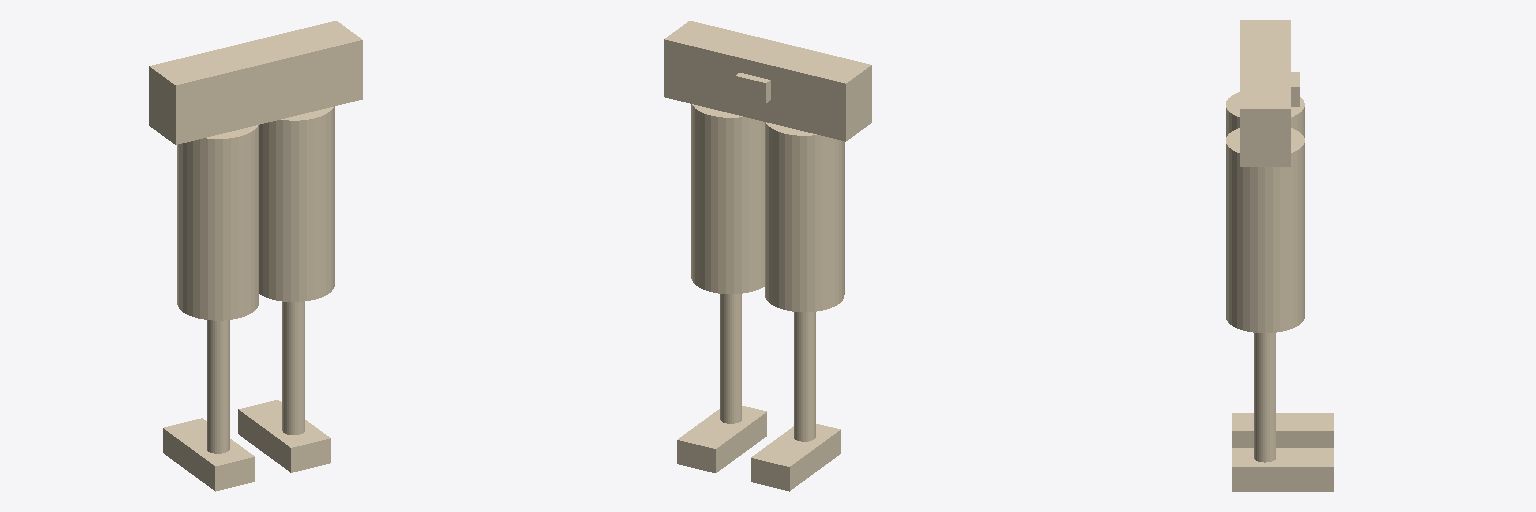
robot.urdf — Human:
<?xml version="1.0"?>
<robot name="Human">

    <material name="bone_white">
        <color rgba="0.9 0.85 0.75 1.0"/>
    </material>

    <!--
         HIP  
    -->
    <link name="base_link">
        <visual name="hip">
            <geometry>
                <box size="0.470 0.115 0.143"/>
            </geometry>
            <origin xyz="0.0 0.0 0.0" rpy="0.0 0.0 0.0"/>
            <material name="bone_white"/>
        </visual>

        <visual name="front_panel">
            <geometry>
                <box size="0.080 0.020 0.050"/>
            </geometry>
            <origin xyz="0.0 0.0675 0.01" rpy="0.0 0.0 0.0"/>
            <material name="bone_white"/>
        </visual>
    </link>

    <!--
         LEFT LEG
    -->
    <link name="left_thigh">
        <visual name="left_thigh_visual">
            <geometry>
                <cylinder radius="0.089" length="0.43533"/>
            </geometry>
            <origin xyz="0.0 0.0 -0.217665" rpy="0.0 0.0 0.0"/>
            <material name="bone_white"/>
        </visual>
    </link>

    <link name="left_hip_int1"/>
    <link name="left_hip_int2"/>

    <joint name="left_hip_flexion" type="revolute">
        <parent link="base_link"/>
        <child  link="left_hip_int1"/>
        <origin xyz="-0.095 0.0 -0.0715" rpy="0.0 0.0 0.0"/>
        <axis xyz="1 0 0"/>
        <limit lower="-0.349" upper="2.094" effort="500" velocity="3.0"/>
    </joint>

    <joint name="left_hip_abduction" type="revolute">
        <parent link="left_hip_int1"/>
        <child  link="left_hip_int2"/>
        <origin xyz="0.0 0.0 0.0" rpy="0.0 0.0 0.0"/>
        <axis xyz="0 1 0"/>
        <limit lower="-0.349" upper="0.785" effort="500" velocity="3.0"/>
    </joint>

    <joint name="left_hip_rotation" type="revolute">
        <parent link="left_hip_int2"/>
        <child  link="left_thigh"/>
        <origin xyz="0.0 0.0 0.0" rpy="0.0 0.0 0.0"/>
        <axis xyz="0 0 1"/>
        <limit lower="-0.785" upper="0.785" effort="500" velocity="3.0"/>
    </joint>

    <link name="left_shin">
        <visual name="left_shin_visual">
            <geometry>
                <cylinder radius="0.025" length="0.34925"/>
            </geometry>
            <origin xyz="0.0 0.0 -0.174625" rpy="0.0 0.0 0.0"/>
            <material name="bone_white"/>
        </visual>
    </link>

    <joint name="left_knee_flexion" type="revolute">
        <parent link="left_thigh"/>
        <child  link="left_shin"/>
        <origin xyz="0.0 0.0 -0.43533" rpy="0.0 0.0 0.0"/>
        <axis xyz="-1 0 0"/>
        <limit lower="-0.087" upper="2.443" effort="500" velocity="3.0"/>
    </joint>

    <link name="left_shoe">
        <visual name="left_shoe_visual">
            <geometry>
                <box size="0.100 0.230 0.060"/>
            </geometry>
            <origin xyz="0.0 0.040 -0.030" rpy="0.0 0.0 0.0"/>
            <material name="bone_white"/>
        </visual>
    </link>

    <joint name="left_shoe_joint" type="fixed">
        <parent link="left_shin"/>
        <child  link="left_shoe"/>
        <origin xyz="0.0 0.0 -0.34925" rpy="0.0 0.0 0.0"/>
    </joint>

    <!--
         RIGHT LEG
    -->
    <link name="right_thigh">
        <visual name="right_thigh_visual">
            <geometry>
                <cylinder radius="0.089" length="0.43533"/>
            </geometry>
            <origin xyz="0.0 0.0 -0.217665" rpy="0.0 0.0 0.0"/>
            <material name="bone_white"/>
        </visual>
    </link>

    <link name="right_hip_int1"/>
    <link name="right_hip_int2"/>

    <joint name="right_hip_flexion" type="revolute">
        <parent link="base_link"/>
        <child  link="right_hip_int1"/>
        <origin xyz="0.095 0.0 -0.0715" rpy="0.0 0.0 0.0"/>
        <axis xyz="1 0 0"/>
        <limit lower="-0.349" upper="2.094" effort="500" velocity="3.0"/>
    </joint>

    <joint name="right_hip_abduction" type="revolute">
        <parent link="right_hip_int1"/>
        <child  link="right_hip_int2"/>
        <origin xyz="0.0 0.0 0.0" rpy="0.0 0.0 0.0"/>
        <axis xyz="0 1 0"/>
        <limit lower="-0.785" upper="0.349" effort="500" velocity="3.0"/>
    </joint>

    <joint name="right_hip_rotation" type="revolute">
        <parent link="right_hip_int2"/>
        <child  link="right_thigh"/>
        <origin xyz="0.0 0.0 0.0" rpy="0.0 0.0 0.0"/>
        <axis xyz="0 0 1"/>
        <limit lower="-0.785" upper="0.785" effort="500" velocity="3.0"/>
    </joint>

    <link name="right_shin">
        <visual name="right_shin_visual">
            <geometry>
                <cylinder radius="0.025" length="0.34925"/>
            </geometry>
            <origin xyz="0.0 0.0 -0.174625" rpy="0.0 0.0 0.0"/>
            <material name="bone_white"/>
        </visual>
    </link>

    <joint name="right_knee_flexion" type="revolute">
        <parent link="right_thigh"/>
        <child  link="right_shin"/>
        <origin xyz="0.0 0.0 -0.43533" rpy="0.0 0.0 0.0"/>
        <axis xyz="-1 0 0"/>
        <limit lower="-0.087" upper="2.443" effort="500" velocity="3.0"/>
    </joint>

    <link name="right_shoe">
        <visual name="right_shoe_visual">
            <geometry>
                <box size="0.100 0.230 0.060"/>
            </geometry>
            <origin xyz="0.0 0.040 -0.030" rpy="0.0 0.0 0.0"/>
            <material name="bone_white"/>
        </visual>
    </link>

    <joint name="right_shoe_joint" type="fixed">
        <parent link="right_shin"/>
        <child  link="right_shoe"/>
        <origin xyz="0.0 0.0 -0.34925" rpy="0.0 0.0 0.0"/>
    </joint>

</robot>

--- Render facts (derived) ---
3 views of the same robot in one strip: view 1: azimuth 30°, elevation 25°; view 2: azimuth 150°, elevation 25°; view 3: azimuth 270°, elevation 25° (orthographic).
Model Human with 11 links and 10 joints (8 revolute, 2 fixed), rooted at base_link, posed every joint at zero.
Links seen in each view (by area): view 1: base_link, left_thigh, right_thigh, right_shoe, left_shoe, left_shin, right_shin; view 2: base_link, left_thigh, right_thigh, left_shoe, right_shoe, right_shin, left_shin; view 3: right_thigh, base_link, right_shoe, right_shin, left_shoe, left_thigh.
Link boxes in pixels (bbox=[...]): base_link: bbox=[149, 21, 362, 144]; left_thigh: bbox=[177, 125, 258, 320]; right_thigh: bbox=[259, 106, 334, 301]; right_shoe: bbox=[238, 400, 330, 472]; left_shoe: bbox=[163, 418, 254, 491]; left_shin: bbox=[207, 320, 229, 453]; right_shin: bbox=[282, 302, 304, 434]; base_link: bbox=[664, 21, 871, 141]; left_thigh: bbox=[765, 122, 844, 311]; right_thigh: bbox=[691, 104, 764, 293]; left_shoe: bbox=[751, 424, 840, 491]; right_shoe: bbox=[677, 406, 766, 472]; right_shin: bbox=[720, 294, 741, 423]; left_shin: bbox=[794, 312, 815, 441]; right_thigh: bbox=[1226, 128, 1304, 332]; base_link: bbox=[1240, 20, 1299, 166]; right_shoe: bbox=[1232, 448, 1333, 491]; right_shin: bbox=[1254, 333, 1275, 462]; left_shoe: bbox=[1232, 413, 1333, 447]; left_thigh: bbox=[1226, 92, 1304, 137].
Bounding box of the posed robot: 0.47 × 0.244 × 0.9876 m (x, y, z).
Geometry: primitives only (box / cylinder / sphere), no mesh files.
